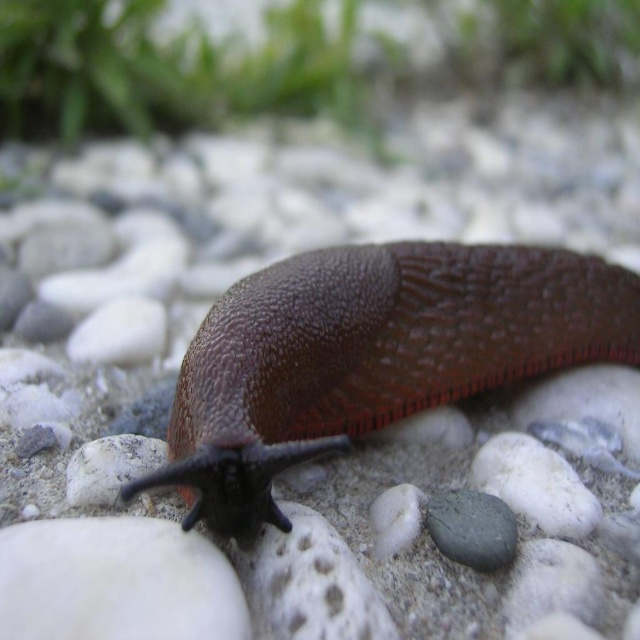Snail: (116, 238, 640, 557)
